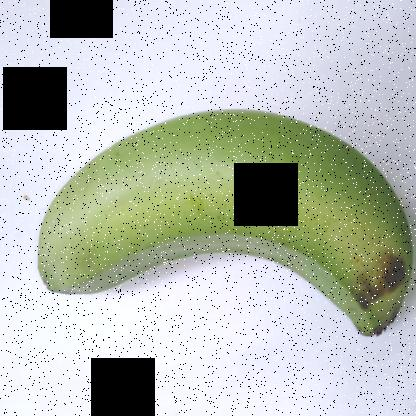freshunripe: (32, 84, 415, 368)
